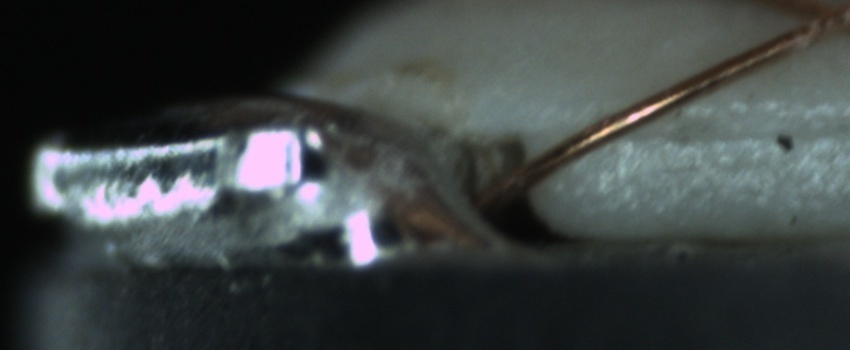CL: (775, 0, 849, 45)
DL: (615, 95, 848, 165)
